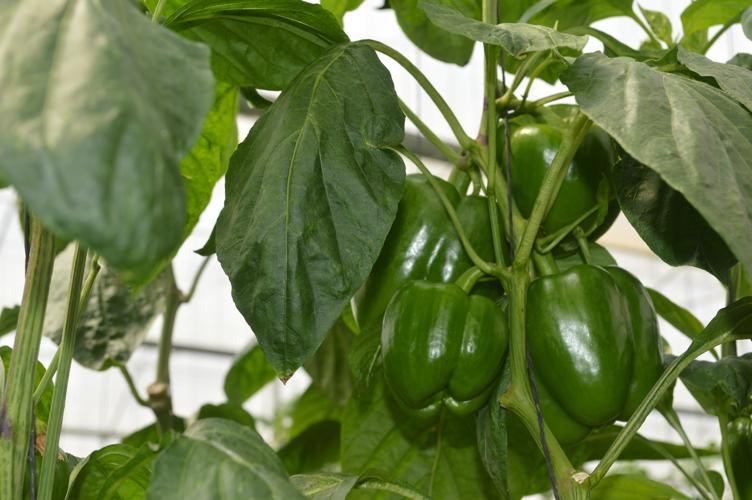BellPepper: (351, 172, 498, 313), (533, 266, 659, 429), (380, 280, 507, 419), (507, 105, 610, 235)
